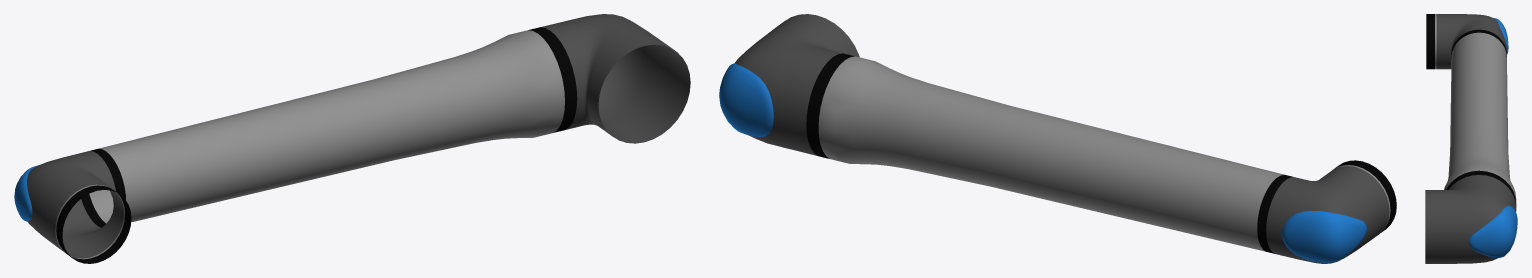
The model's file is forearm.dae.
3 views of the same model, side by side, from view 1: azimuth 30°, elevation 25°; view 2: azimuth 150°, elevation 25°; view 3: azimuth 270°, elevation 25° (orthographic). The views are drawn at different scales.
Parts seen in each view (by area): view 1: elbow_002, elbow_pad_003; view 2: elbow_002, elbow_pad_003, elbow_pad_004; view 3: elbow_002, elbow_pad_004, elbow_pad_003.
Boxes of the visible parts, x1,y1,x2,y2 form: elbow_002: [27, 14, 690, 263]; elbow_pad_003: [14, 165, 39, 221]; elbow_002: [734, 14, 1396, 263]; elbow_pad_003: [1282, 211, 1366, 263]; elbow_pad_004: [719, 63, 773, 137]; elbow_002: [1425, 14, 1516, 263]; elbow_pad_004: [1468, 205, 1517, 258]; elbow_pad_003: [1493, 18, 1508, 54].
Bounding box in the file's own units: 0.8246 × 0.1508 × 0.1205.
